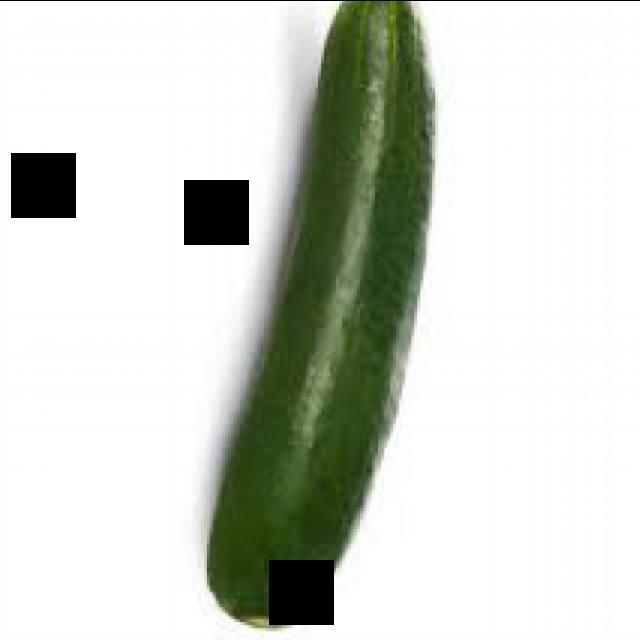cucumber: (197, 0, 453, 636)
